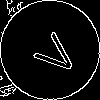V: (25, 25, 82, 80)
